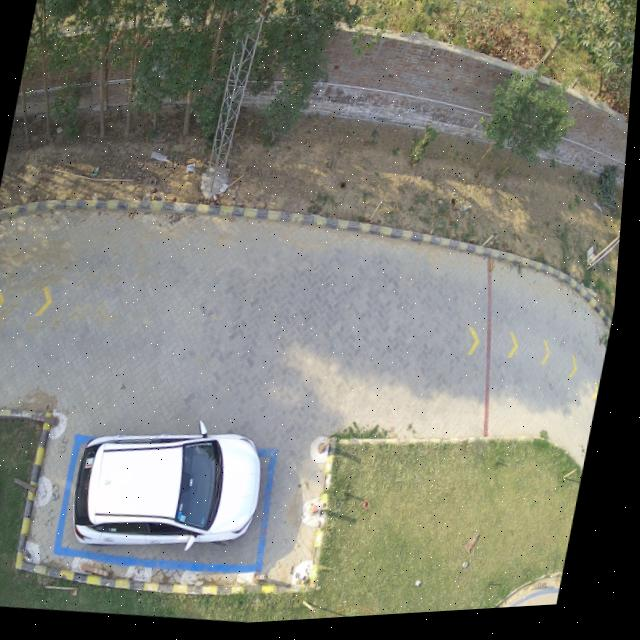car: (80, 426, 269, 552)
